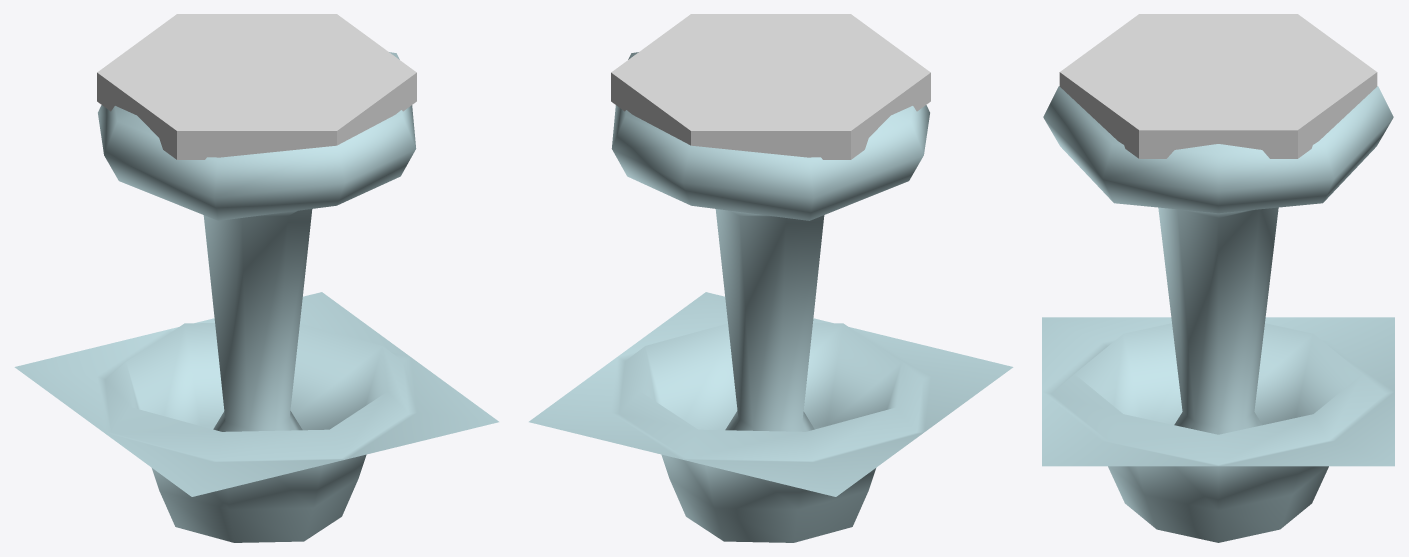
File: SteamGeyser.fbx
3 renders of one model, left to right at view 1: azimuth 30°, elevation 25°; view 2: azimuth 150°, elevation 25°; view 3: azimuth 270°, elevation 25°, orthographic.
Parts seen in each view (by area): view 1: SteamGeyser_Up_01.001, SteamGeyser_Up.002, Stone.005; view 2: SteamGeyser_Up_01.001, SteamGeyser_Up.002, Stone.005; view 3: SteamGeyser_Up_01.001, SteamGeyser_Up.002, Stone.005.
Part boxes in pixels (left/top/right/bottom): SteamGeyser_Up_01.001: left=14, top=292, right=498, bottom=542; SteamGeyser_Up.002: left=98, top=52, right=416, bottom=431; Stone.005: left=97, top=14, right=416, bottom=159; SteamGeyser_Up_01.001: left=529, top=292, right=1013, bottom=542; SteamGeyser_Up.002: left=611, top=52, right=929, bottom=431; Stone.005: left=611, top=14, right=930, bottom=159; SteamGeyser_Up_01.001: left=1042, top=317, right=1394, bottom=542; SteamGeyser_Up.002: left=1043, top=86, right=1393, bottom=434; Stone.005: left=1059, top=14, right=1377, bottom=158.
Size of the model in its own units: 100 by 135 by 100.
